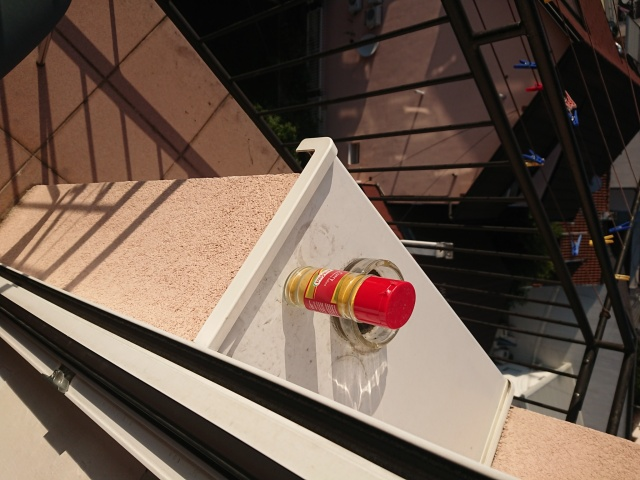Kotanyi Curry Spices Mix 70g: (282, 264, 417, 331)
